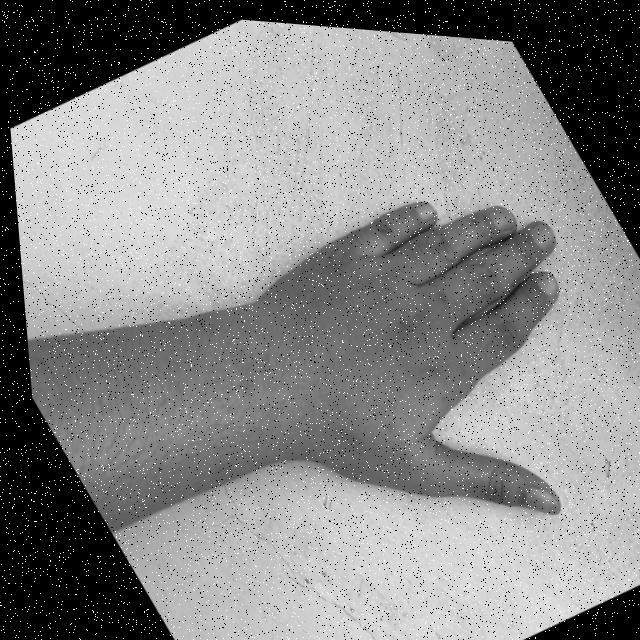no-gloves: (197, 121, 640, 605)
